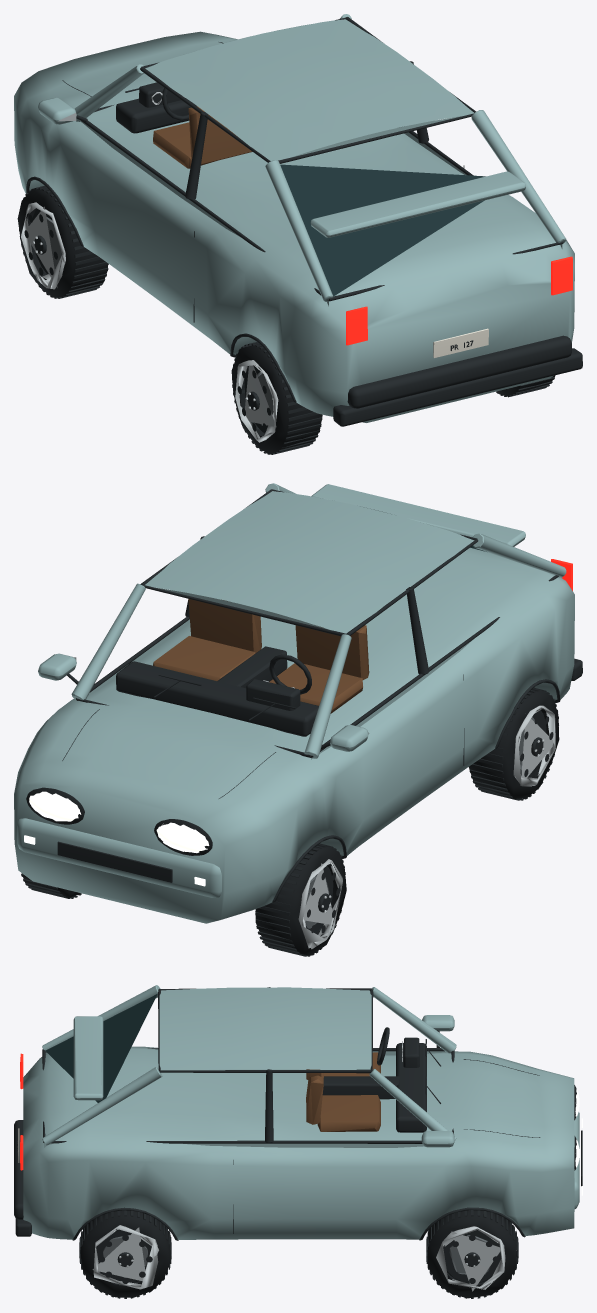
The model's file is traffic-compact-lod.glb.
3 views of the same model, one above another, from view 1: azimuth 30°, elevation 25°; view 2: azimuth 150°, elevation 25°; view 3: azimuth 270°, elevation 25° (orthographic). The views are drawn at different scales.
Parts seen in each view (by area): view 1: Traffic enamel.002, Traffic polymer.002, Traffic smoked glazing.002, Traffic tire rubber.002, Traffic satin alloy.002, Traffic upholstery.002, Traffic ruby lamps.002, Traffic registration.002, Dark brake steel.002; view 2: Traffic enamel.002, Traffic polymer.002, Traffic upholstery.002, Traffic tire rubber.002, Traffic satin alloy.002, Traffic ivory lamps.002; view 3: Traffic enamel.002, Traffic polymer.002, Traffic tire rubber.002, Traffic satin alloy.002, Traffic upholstery.002, Traffic smoked glazing.002, Dark brake steel.002.
Part boxes in pixels (bbox=[...]): Traffic enamel.002: bbox=[14, 14, 574, 422]; Traffic polymer.002: bbox=[19, 17, 582, 454]; Traffic smoked glazing.002: bbox=[280, 164, 485, 296]; Traffic tire rubber.002: bbox=[17, 188, 555, 454]; Traffic satin alloy.002: bbox=[21, 92, 278, 442]; Traffic upholstery.002: bbox=[153, 106, 252, 168]; Traffic ruby lamps.002: bbox=[346, 256, 572, 345]; Traffic registration.002: bbox=[433, 328, 488, 358]; Dark brake steel.002: bbox=[46, 216, 273, 425]; Traffic enamel.002: bbox=[14, 483, 574, 923]; Traffic polymer.002: bbox=[21, 489, 582, 956]; Traffic upholstery.002: bbox=[153, 599, 369, 713]; Traffic tire rubber.002: bbox=[21, 689, 559, 955]; Traffic satin alloy.002: bbox=[74, 657, 555, 949]; Traffic ivory lamps.002: bbox=[24, 791, 209, 886]; Traffic enamel.002: bbox=[23, 985, 579, 1239]; Traffic polymer.002: bbox=[14, 987, 582, 1298]; Traffic tire rubber.002: bbox=[80, 1210, 516, 1298]; Traffic satin alloy.002: bbox=[92, 1041, 505, 1291]; Traffic upholstery.002: bbox=[306, 1052, 380, 1131]; Traffic smoked glazing.002: bbox=[45, 994, 157, 1102]; Dark brake steel.002: bbox=[103, 1235, 492, 1277].
Size of the model in its own units: 2 by 1.65 by 3.84.
